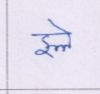o_matra: (61, 24, 74, 52)
